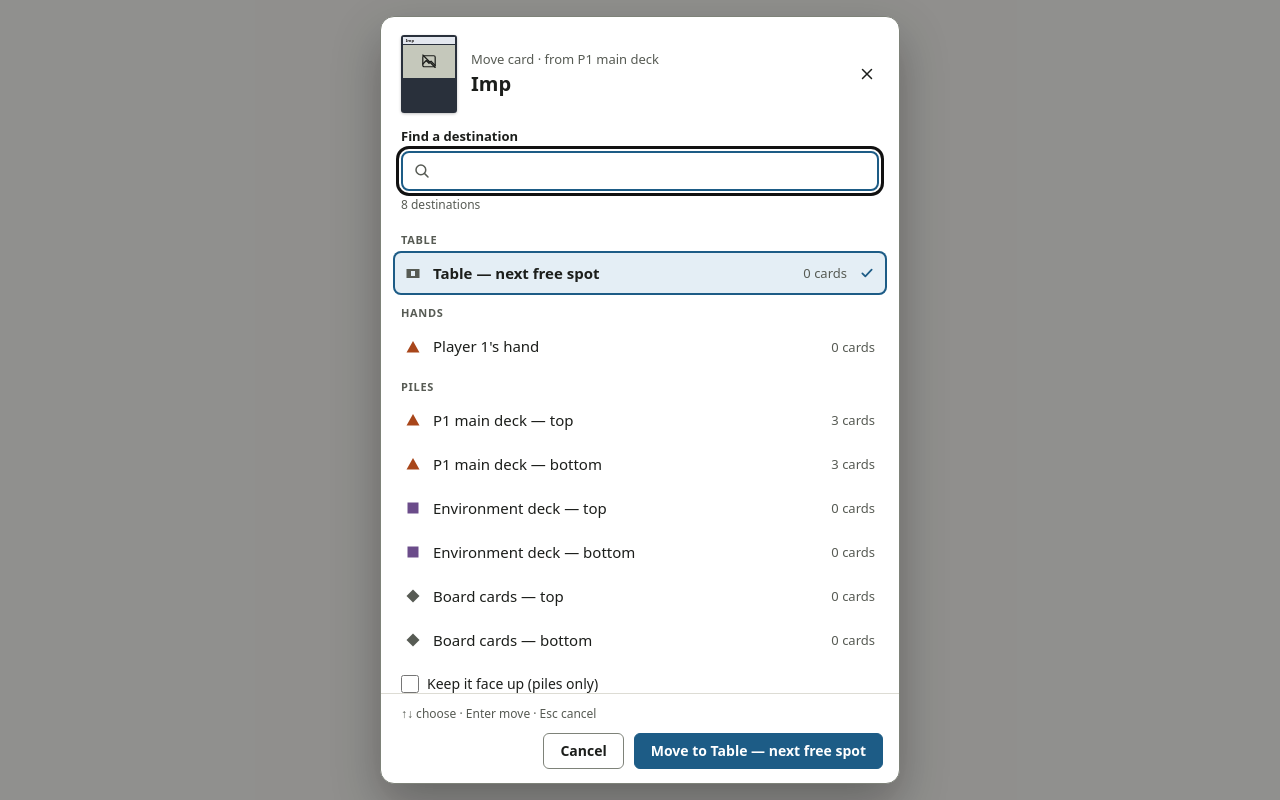
Test: SP-8 Move to… dialog › does nothing when no destination matches
Type "nowhere" into the dropdown labelled "Find a destination" at (640, 171), box [401,151,879,191]
Then press Enter
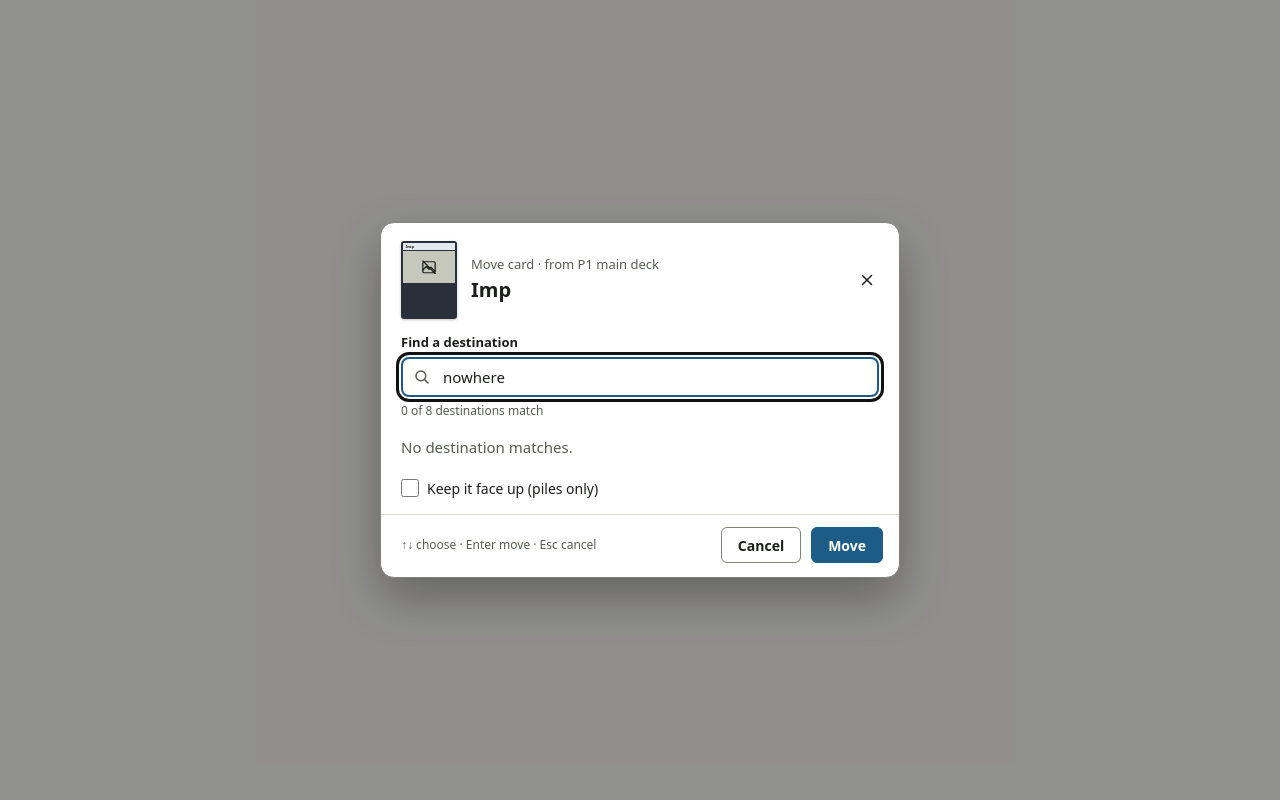
Result: the list reads "No destination matches." at [401,438,573,458]
